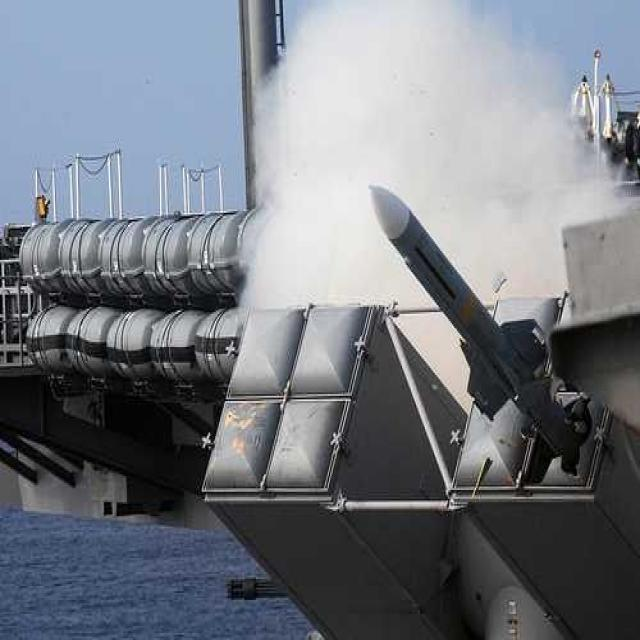missile: (366, 181, 546, 413)
